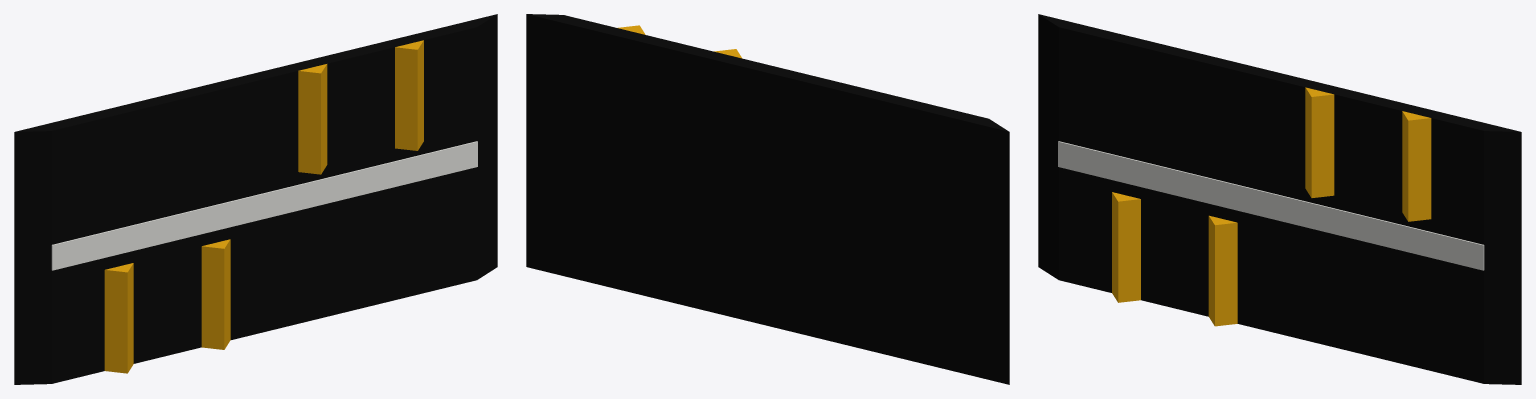
The model's file is speed_bump.obj.
The picture shows the model from 3 angles, left to right: view 1: azimuth 30°, elevation 25°; view 2: azimuth 150°, elevation 25°; view 3: azimuth 330°, elevation 25°; orthographic projection.
Visible parts, largest first — view 1: SpeedBump; view 2: SpeedBump; view 3: SpeedBump.
Boxes of the visible parts, x1,y1,x2,y2 form: SpeedBump: (14,14,497,384); SpeedBump: (526,14,1009,384); SpeedBump: (1038,14,1521,384).
Bounding box in the file's own units: 0.6 × 0.3 × 0.036.
